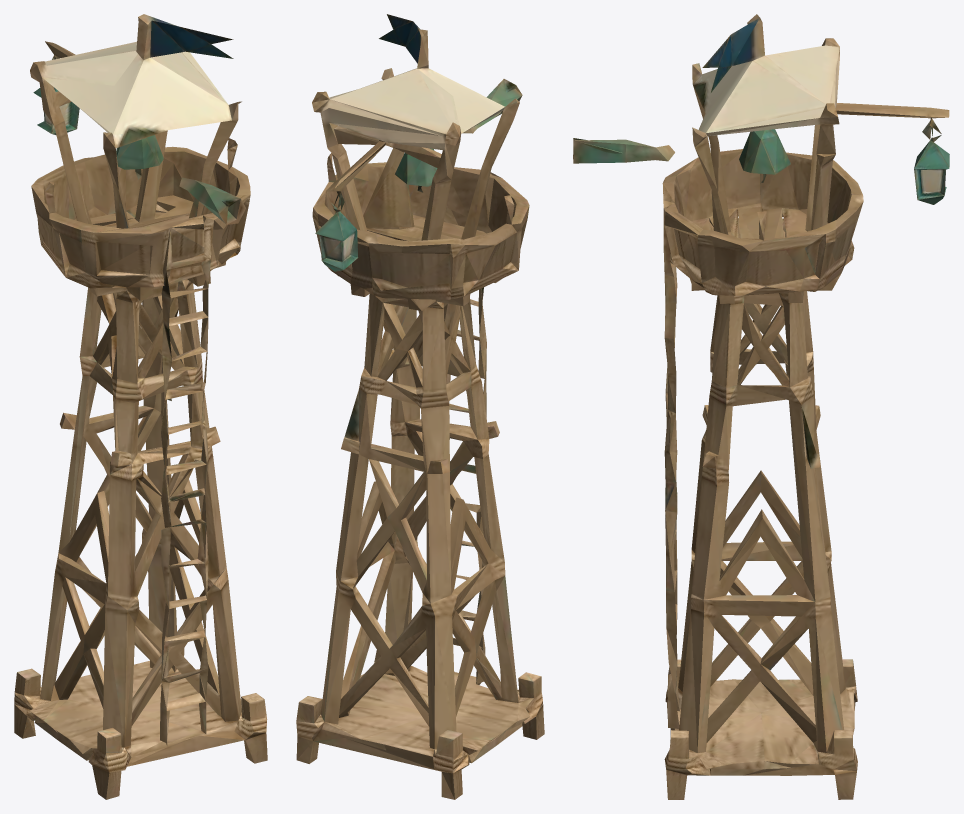
The model's file is watchtower.glb.
The picture shows the model from 3 angles, left to right: view 1: azimuth 30°, elevation 25°; view 2: azimuth 150°, elevation 25°; view 3: azimuth 270°, elevation 25°; orthographic projection. The views are drawn at different scales.
Parts seen in each view (by area): view 1: watchtower; view 2: watchtower; view 3: watchtower.
Part boxes in pixels (x1,y1,x2,y2): watchtower: [14, 14, 267, 799]; watchtower: [296, 14, 544, 799]; watchtower: [573, 14, 949, 799].
Bounding box in the file's own units: 0.5272 × 1.9 × 0.8712.
Materials: 1 (1 with a texture image).
